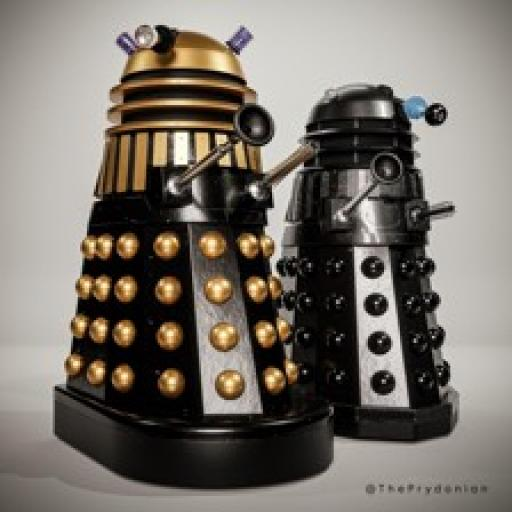dalek: (48, 16, 337, 488), (274, 76, 464, 446)
